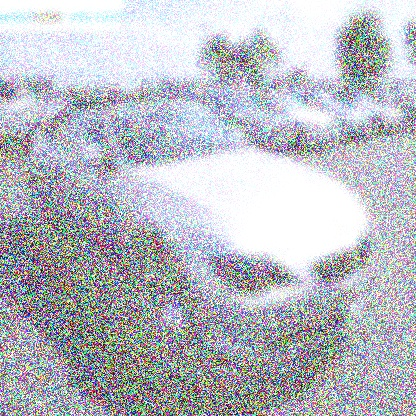Vehicle: (28, 100, 376, 390)
